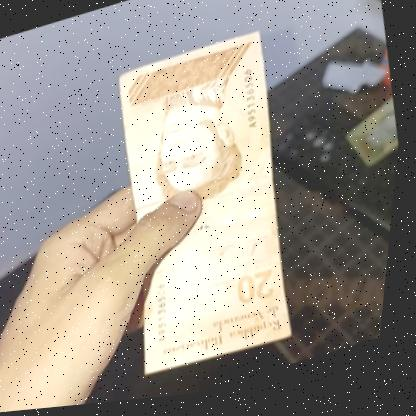twenty-front-vef: (87, 28, 326, 388)
